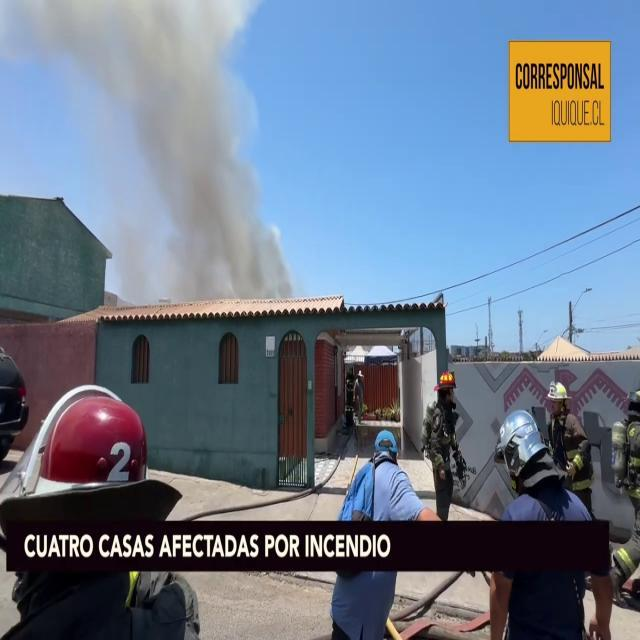Smoke: (72, 0, 294, 307)
